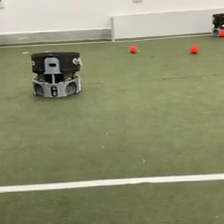ball: (129, 44, 137, 53), (190, 44, 198, 53), (218, 29, 224, 36)
goal: (109, 7, 224, 42)
robot: (29, 49, 82, 99), (211, 11, 224, 36)
